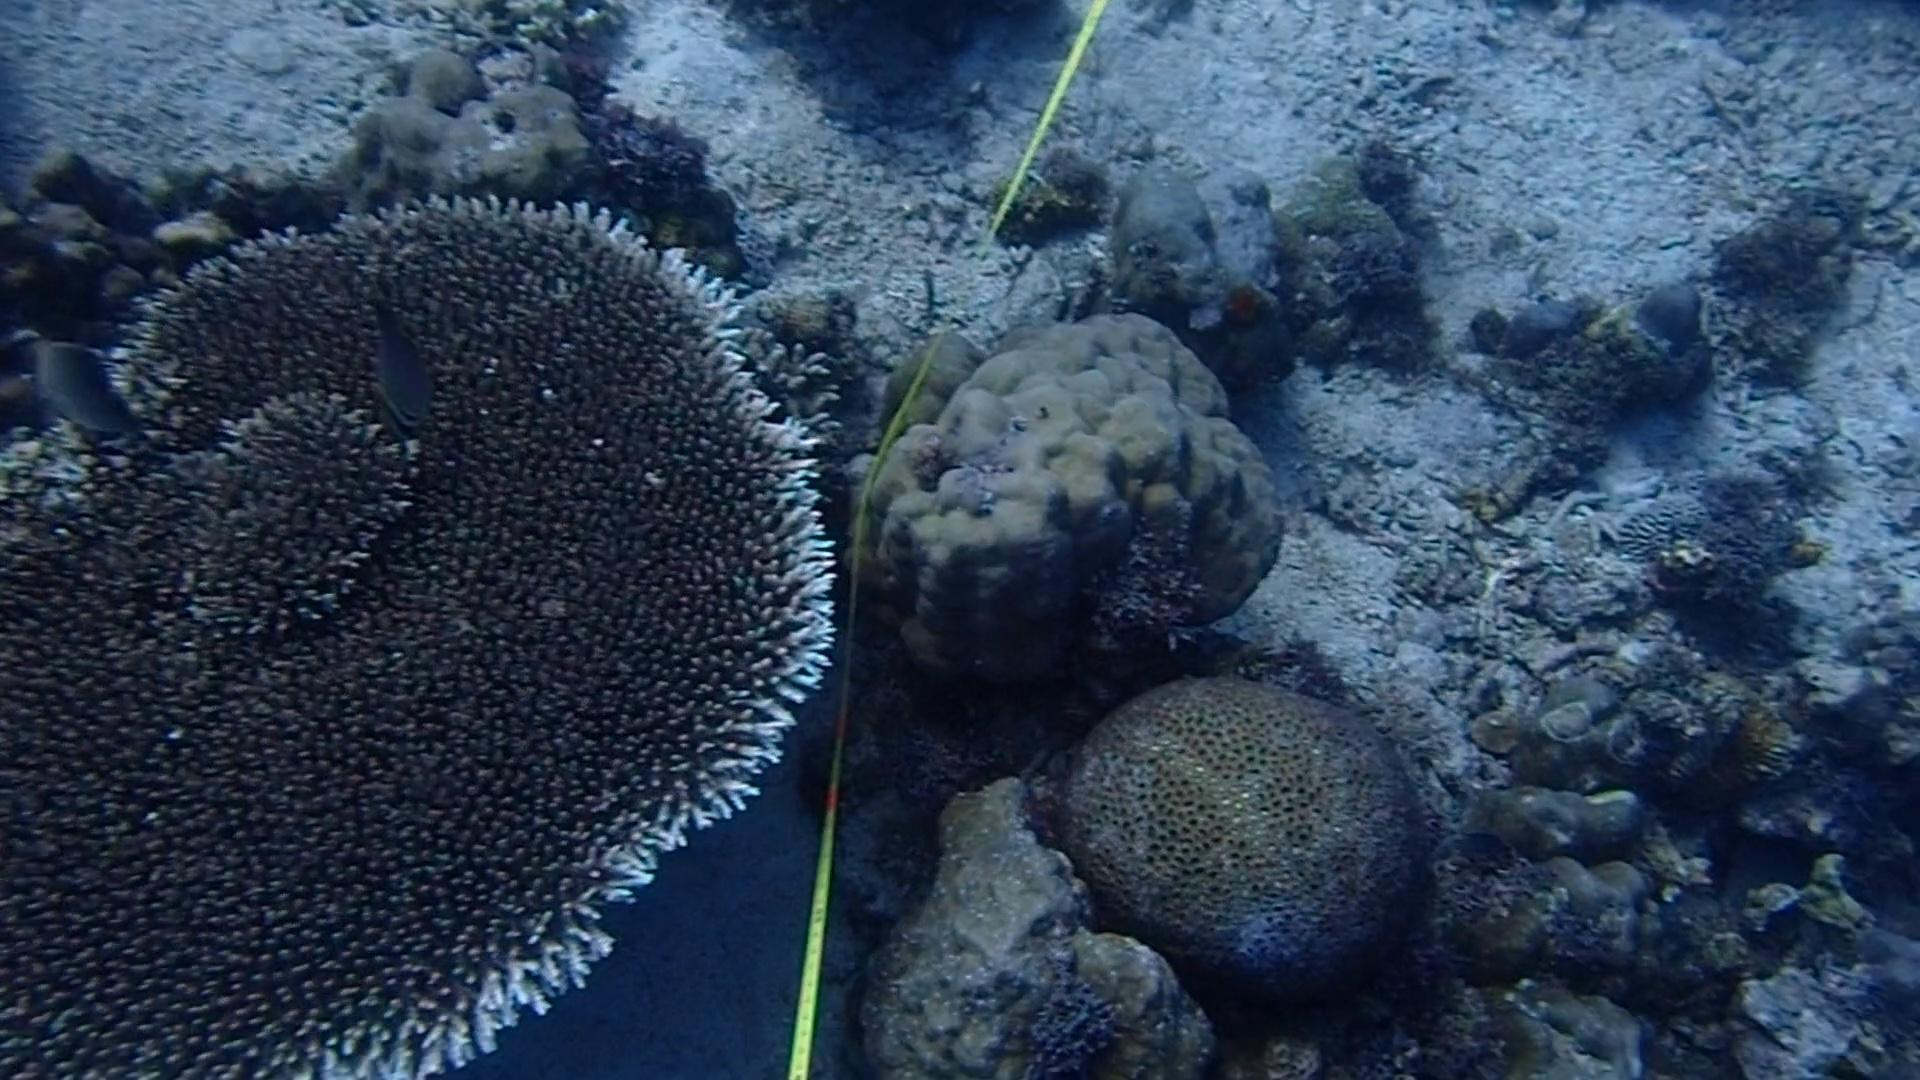Dark Blue Dory: (8, 327, 137, 440), (353, 289, 450, 431)
Light Fish: (1433, 819, 1515, 878)
